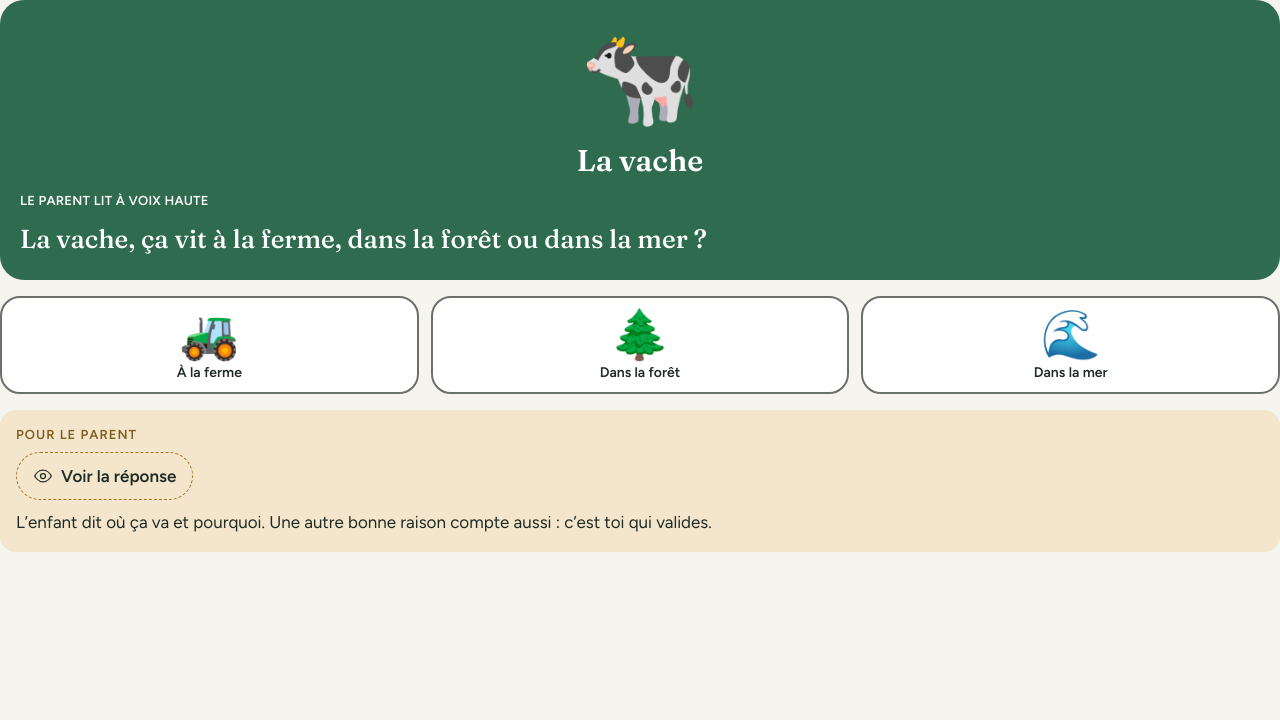
Test: une manche › montre l’élément et les familles ; le parent voit la réponse et son explication
Expected: the element named "Question" shows "🐄", [580,19,700,134]
Expected: the element named "Question" shows "La vache, ça vit à la ferme", [20,223,707,255]
What coordinates should you click on to do the following:
click the button "Voir la réponse"
I would click on:
 (105, 476)
Its box is [16,452,193,500].
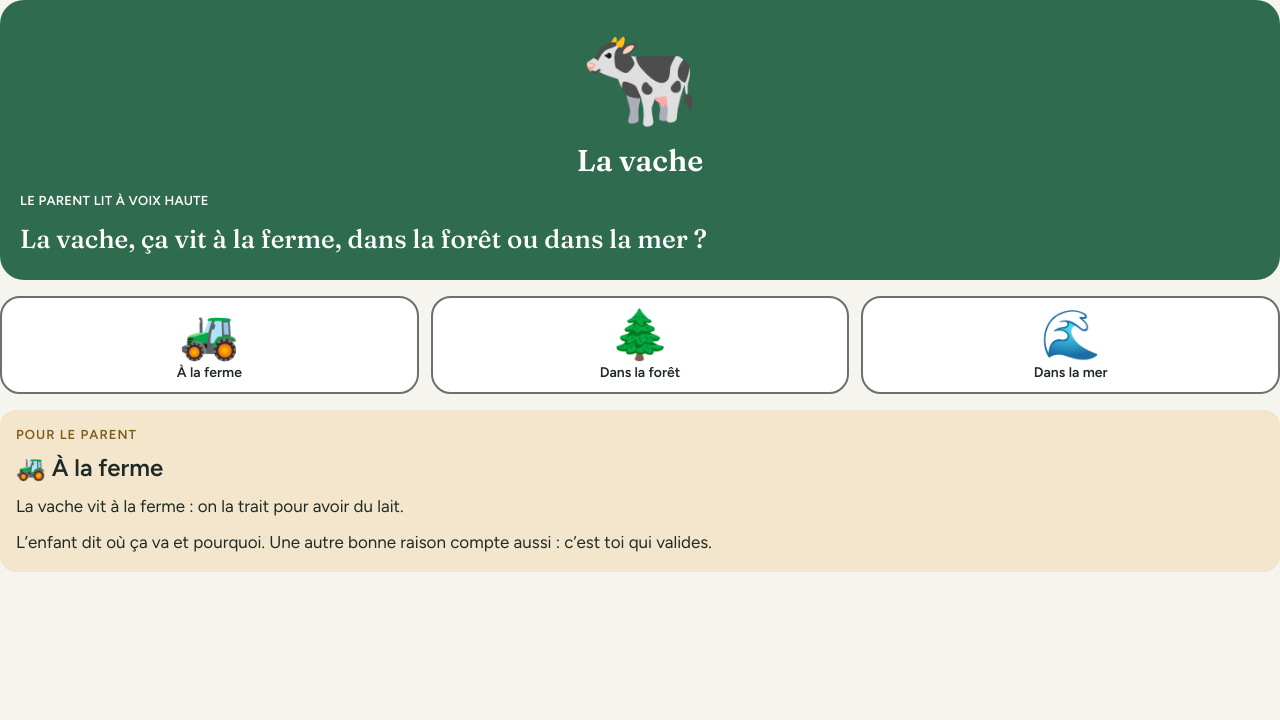
Now the element "Pour le parent" shows "🚜 À la ferme", box [16,453,163,482]
